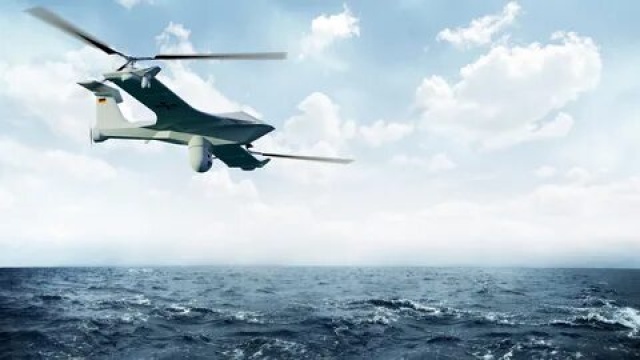military drone: (23, 6, 354, 172)
